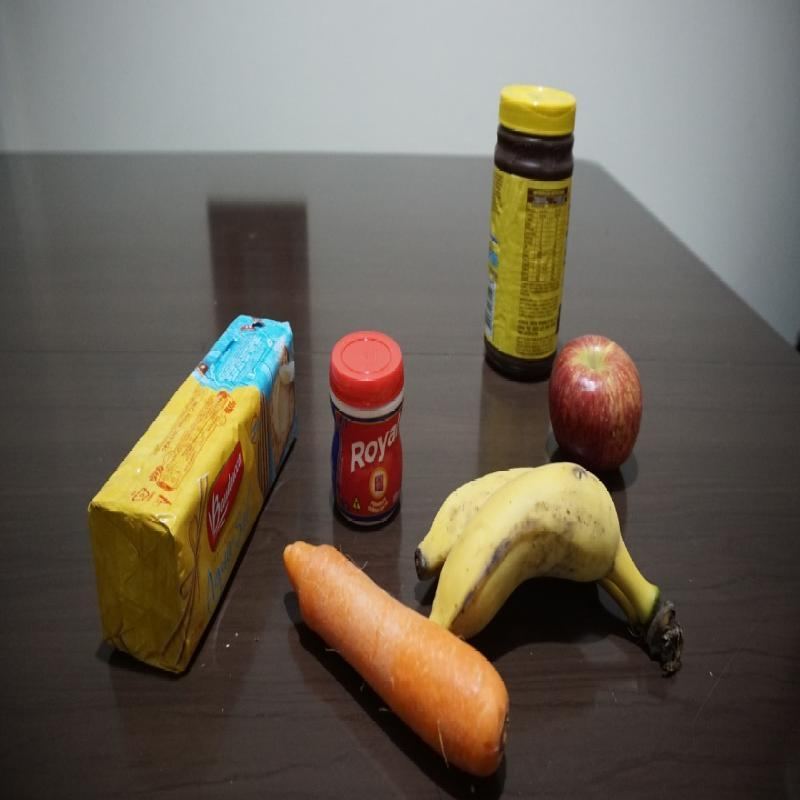Apple: (551, 335, 645, 453)
Banana: (418, 465, 694, 630)
Carrot: (296, 527, 413, 722)
Chocolate Powder: (492, 82, 575, 323)
Cracker: (91, 308, 294, 674)
Yeast: (327, 330, 407, 528)
